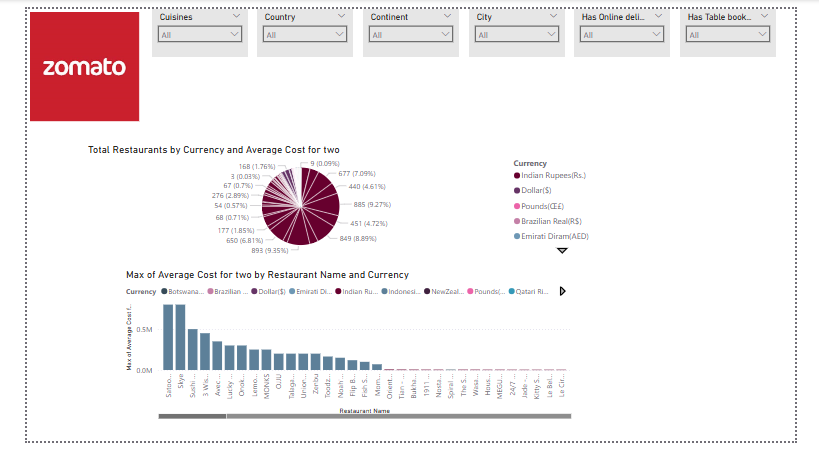

What the dashboard file says about the page in this screenshot:
{"tool":"powerbi","page":{"name":"Cost analysis ","canvas":[1280,720],"ordinal":3},"visuals":[{"type":"columnChart","fields":{"Y":["Max(KPIs.Average Cost for two)"],"Category":["Restaurant.Restaurant Name"],"Series":["KPIs.Currency"]},"box":[160,432,752,256],"z":0},{"type":"image","box":[0,0,192,192],"z":1000},{"type":"pieChart","fields":{"Category":["KPIs.Currency"],"Y":["KPIs.Total Restaurants"],"Series":["KPIs.Average Cost for two"]},"box":[96,224,880,192],"z":8000},{"type":"slicer","fields":{"Values":["Cuisines.Cuisines"]},"box":[208,0,160,80],"z":8001},{"type":"slicer","fields":{"Values":["Country Master.Country"]},"box":[384,0,160,80],"z":8002},{"type":"slicer","fields":{"Values":["Restaurant.Continent"]},"box":[560,0,160,80],"z":8003},{"type":"slicer","fields":{"Values":["Restaurant.City"]},"box":[736,0,160,80],"z":8004},{"type":"slicer","fields":{"Values":["Service.Has Online delivery"]},"box":[912,0,160,80],"z":8005},{"type":"slicer","fields":{"Values":["Service.Has Table booking"]},"box":[1088,0,160,80],"z":8006}]}

Visuals, with their boxes in screenshot pixels (x1, y1, x2, y2), scaled from the page's 1280x720 canvas onto the 819x460 screenshot:
columnChart - Max(KPIs.Average Cost for two) x Restaurant.Restaurant Name: {"x1": 102, "y1": 276, "x2": 584, "y2": 440}
image: {"x1": 0, "y1": 0, "x2": 123, "y2": 123}
pieChart - KPIs.Currency x KPIs.Total Restaurants: {"x1": 61, "y1": 143, "x2": 624, "y2": 266}
slicer - Cuisines.Cuisines: {"x1": 133, "y1": 0, "x2": 235, "y2": 51}
slicer - Country Master.Country: {"x1": 246, "y1": 0, "x2": 348, "y2": 51}
slicer - Restaurant.Continent: {"x1": 358, "y1": 0, "x2": 461, "y2": 51}
slicer - Restaurant.City: {"x1": 471, "y1": 0, "x2": 573, "y2": 51}
slicer - Service.Has Online delivery: {"x1": 584, "y1": 0, "x2": 686, "y2": 51}
slicer - Service.Has Table booking: {"x1": 696, "y1": 0, "x2": 799, "y2": 51}
